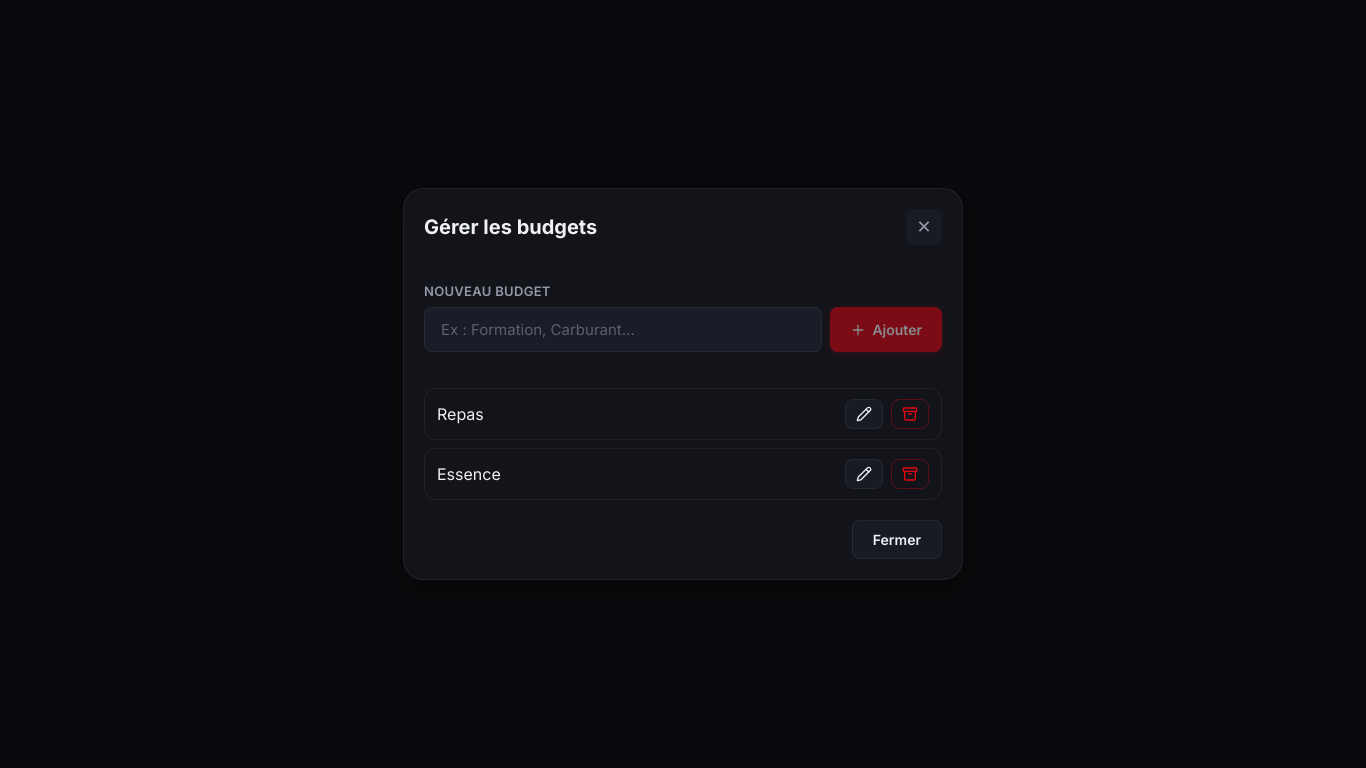
Test: ExpenseBudgetsModal › la modale renomme un budget en édition inline
Expected: the text "Repas" is shown, x1=437 y1=404 x2=484 y2=424
Click the button named "Renommer Repas" at (864, 414), box x1=845 y1=399 x2=883 y2=429
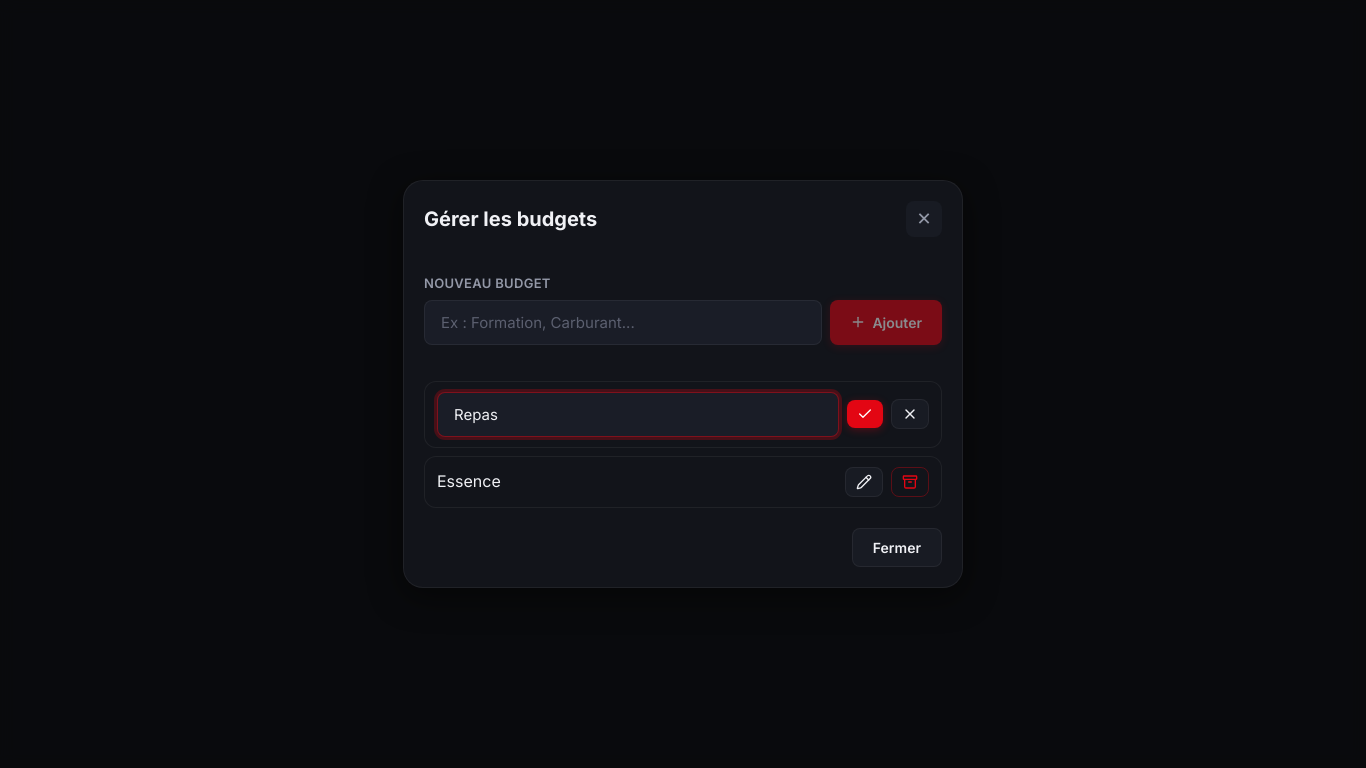
Replace the text in the field named "Renommer le budget Repas" with "Restauration" at (638, 414), box x1=437 y1=392 x2=839 y2=437
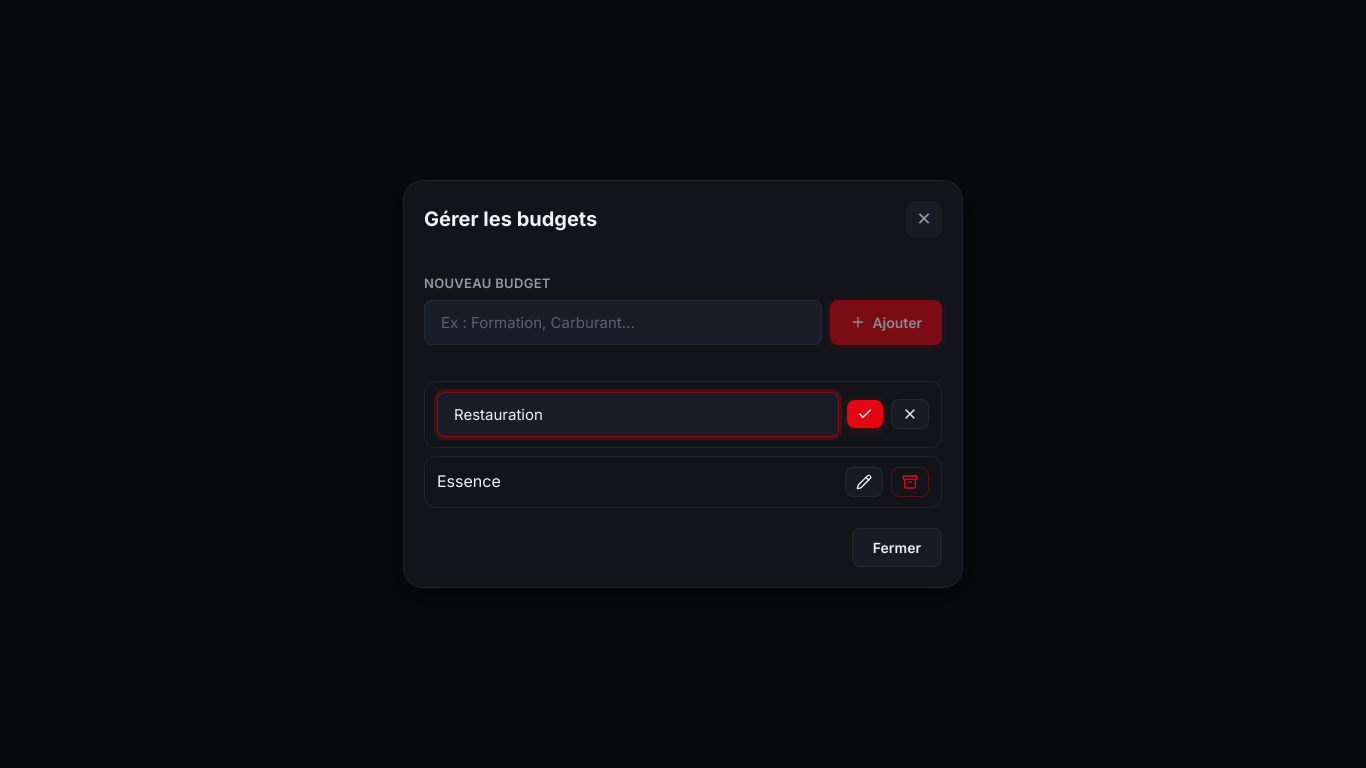
Click the button named "Confirmer le renommage" at (865, 414), box x1=847 y1=400 x2=883 y2=428
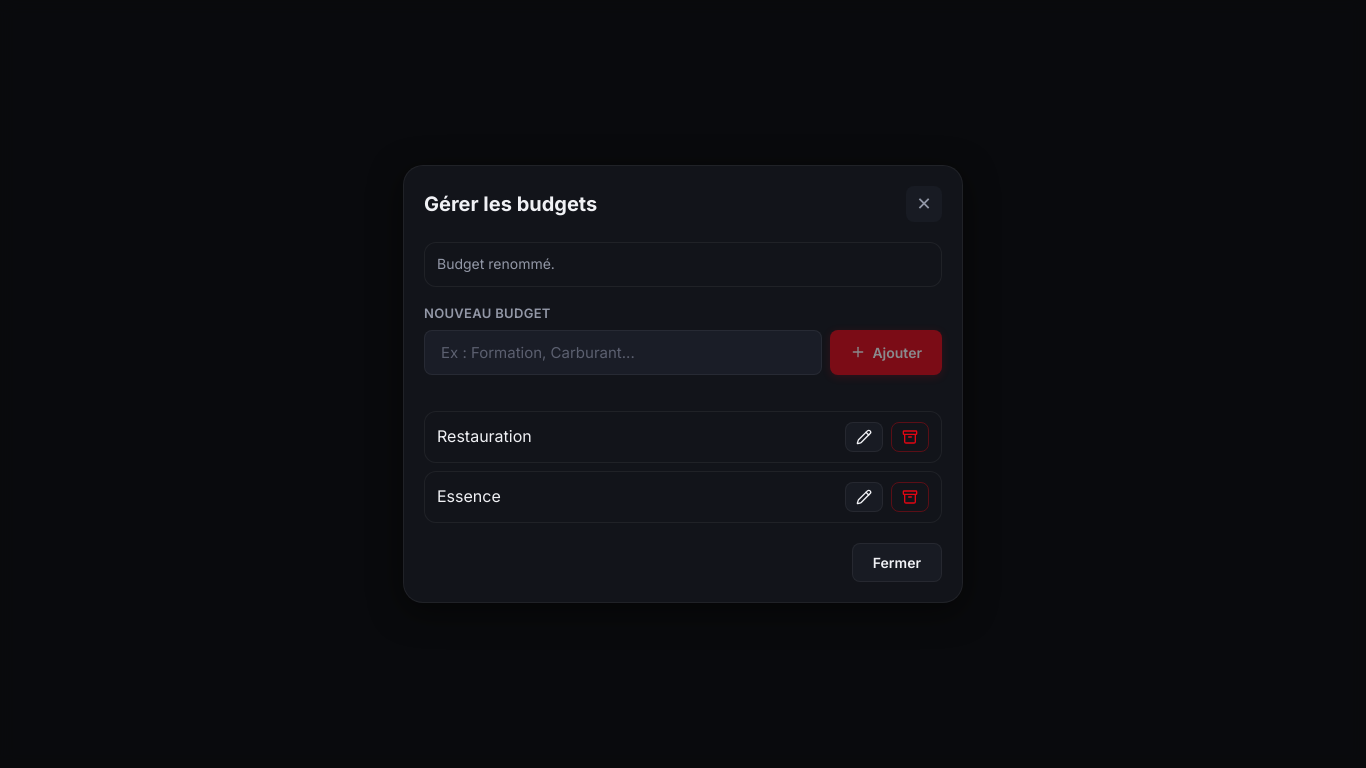
Expected: the text "Restauration" is shown, x1=437 y1=426 x2=532 y2=446
